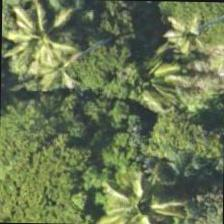Kelapa_Sawit: (112, 33, 204, 125), (143, 0, 223, 81), (1, 0, 77, 81), (86, 163, 179, 223)
